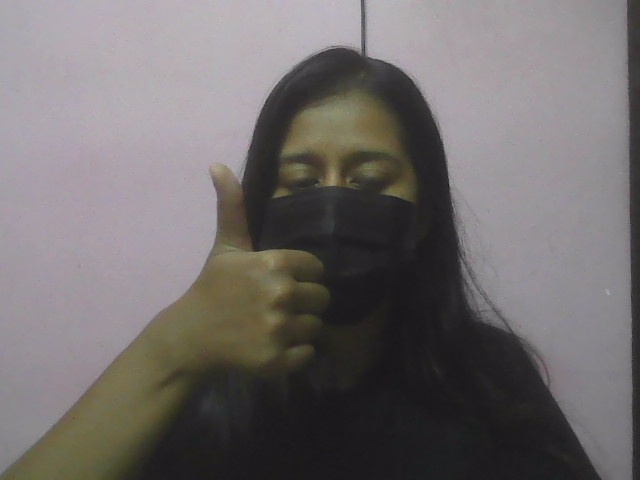Good: (161, 151, 334, 409)
